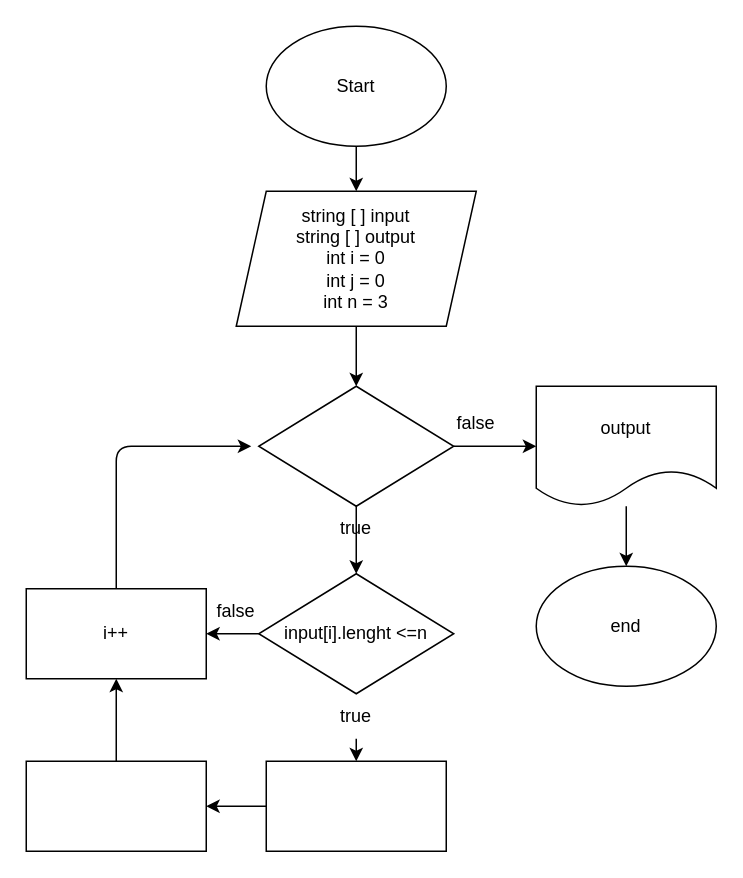
The diagram is 743 pixels wide and 878 high, and some of its shapes have lost their labels. Each missing label, with the centre of its shape:
"i < input.lengt" goes at pixel 355 445.
"j++" goes at pixel 115 805.
"output[j]=input[i]" goes at pixel 355 805.
